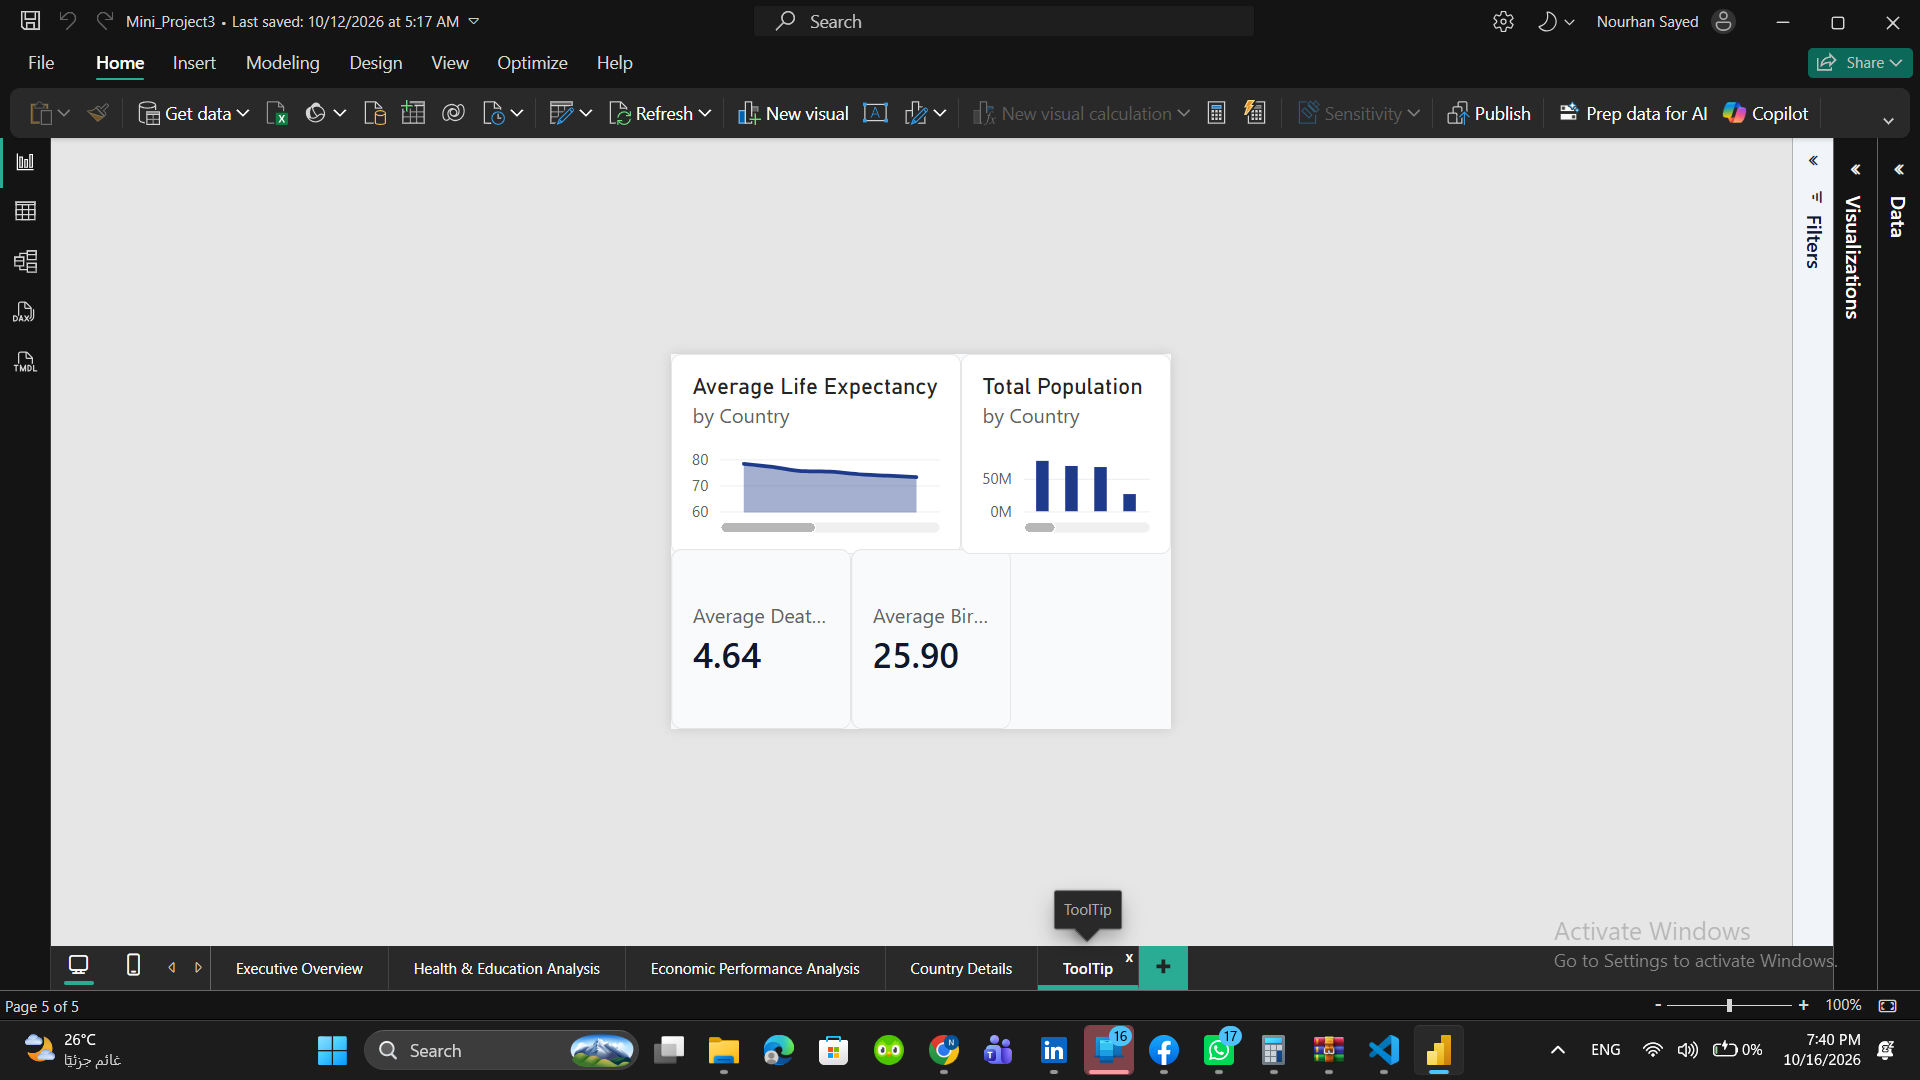

Layout of this report page (visuals, bound fields, positions):
{"tool":"powerbi","page":{"name":"ToolTip","canvas":[400,300],"ordinal":4},"visuals":[{"type":"areaChart","fields":{"Category":["Country_Comparison.Country"],"Y":["Metrics.Average Life Expectancy"]},"box":[0,0,232,160],"z":0},{"type":"cardVisual","fields":{"Data":["Metrics.Average Birth Rate"]},"box":[144,156,128,144],"z":1},{"type":"cardVisual","fields":{"Data":["Metrics.Average Death Rate"]},"box":[0,156,144,144],"z":2},{"type":"clusteredColumnChart","fields":{"Category":["Country_Comparison.Country"],"Y":["Metrics.Total Population"]},"box":[232,0,168,160],"z":3}]}

Visuals, with their boxes on the page's 400x300 design canvas (x1, y1, x2, y2). These are canvas units, not pixel positions in the 1920x1080 screenshot, which may show the page scaled, cropped or inside an application window:
areaChart - Country_Comparison.Country x Metrics.Average Life Expectancy: (x1=0, y1=0, x2=232, y2=160)
cardVisual - Metrics.Average Birth Rate: (x1=144, y1=156, x2=272, y2=300)
cardVisual - Metrics.Average Death Rate: (x1=0, y1=156, x2=144, y2=300)
clusteredColumnChart - Country_Comparison.Country x Metrics.Total Population: (x1=232, y1=0, x2=400, y2=160)
